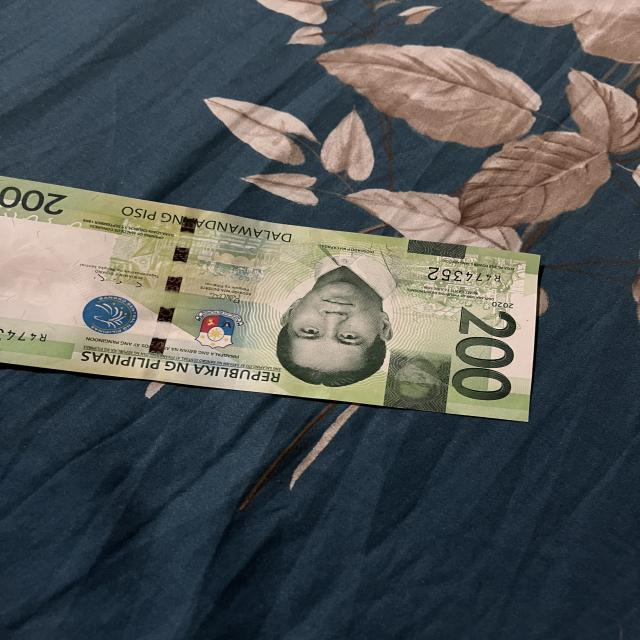concealed_value: (383, 348, 452, 414)
security_thread: (139, 206, 203, 381)
see_through_mark: (0, 208, 85, 234)
serial_number: (425, 264, 506, 286)
value: (451, 303, 519, 405)
